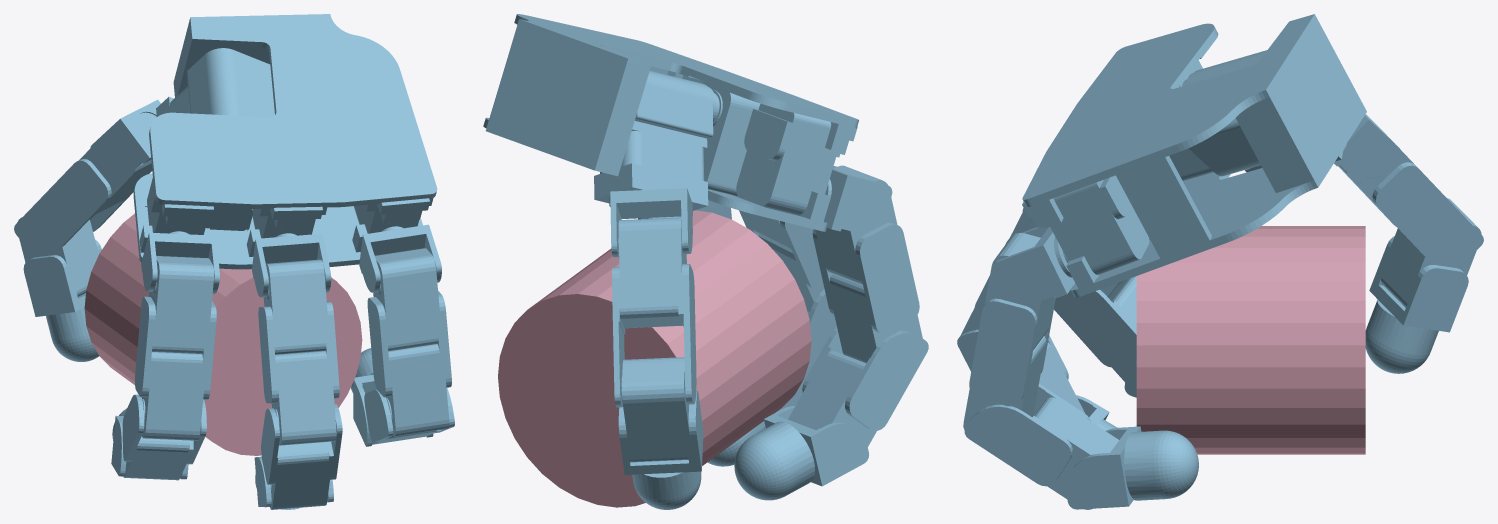
The model's file is Allegro_contactdb+cylinder_medium_mesh.glb.
3 renders of one model, left to right at view 1: azimuth 30°, elevation 25°; view 2: azimuth 150°, elevation 25°; view 3: azimuth 270°, elevation 25°, orthographic. The views are drawn at different scales.
Parts seen in each view (by area): view 1: world; view 2: world; view 3: world.
Boxes of the visible parts, x1,y1,x2,y2 form: world: (14, 14, 454, 509); world: (483, 14, 928, 509); world: (957, 14, 1483, 509).
Size of the model in its own units: 0.1429 by 0.1847 by 0.1842.
